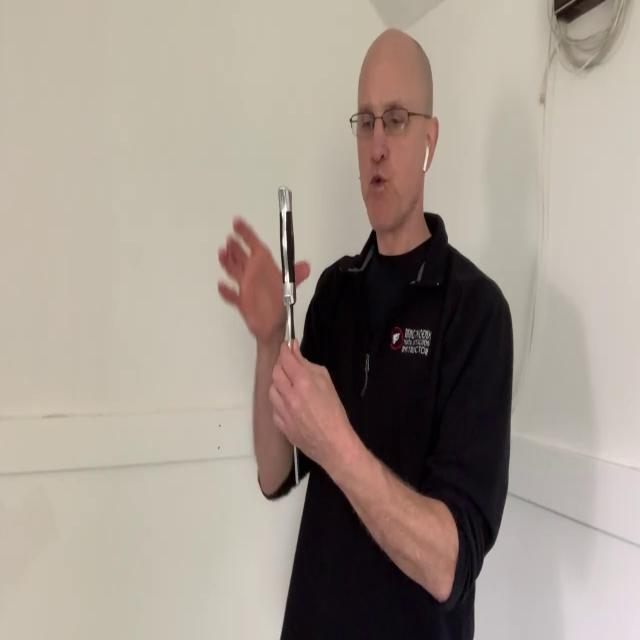Knife_Handle: (268, 183, 336, 483)
